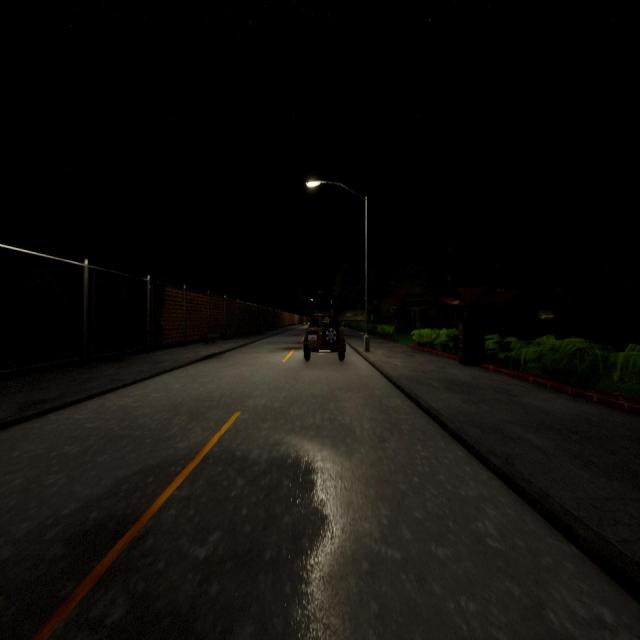Vehicle: (303, 310, 345, 362)
